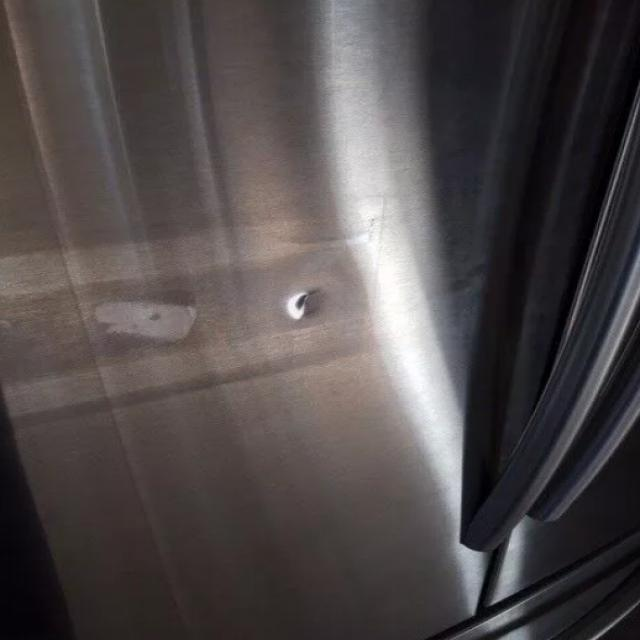dents: (276, 272, 355, 348)
